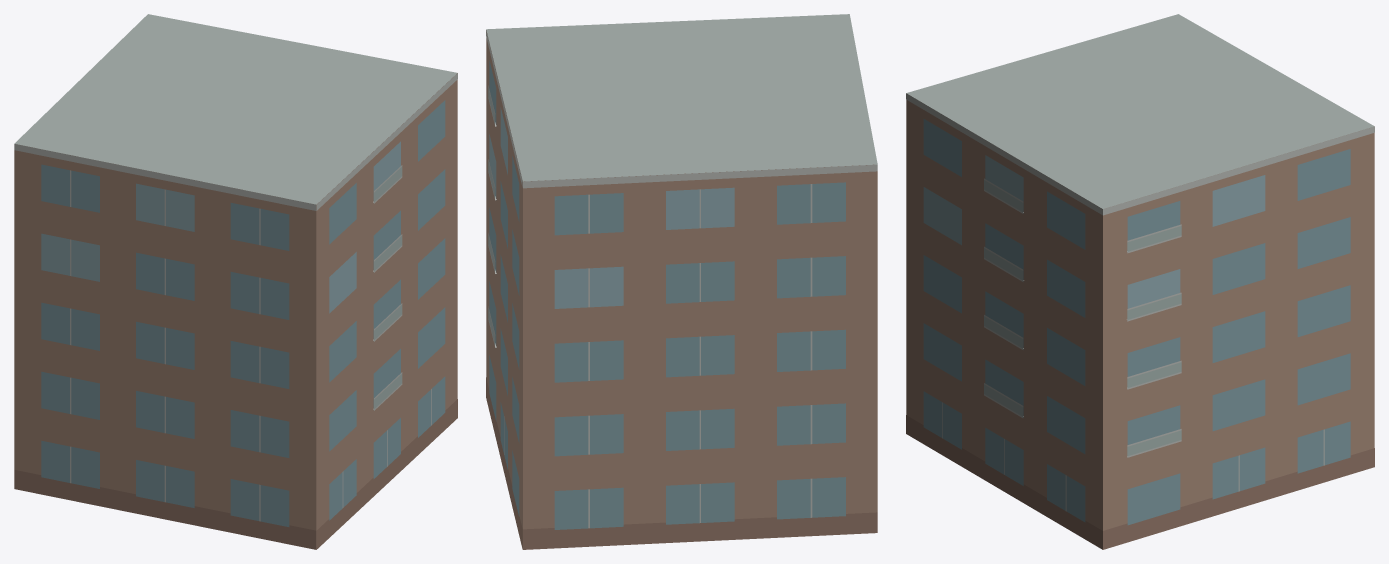
The model's file is survey-upis-32584382.glb.
The picture shows the model from 3 angles, left to right: view 1: azimuth 30°, elevation 25°; view 2: azimuth 150°, elevation 25°; view 3: azimuth 270°, elevation 25°; orthographic projection. The views are drawn at different scales.
Parts seen in each view (by area): view 1: survey-upis-32584382.tmp; view 2: survey-upis-32584382.tmp; view 3: survey-upis-32584382.tmp.
Boxes of the visible parts, x1,y1,x2,y2 form: survey-upis-32584382.tmp: [14, 14, 457, 549]; survey-upis-32584382.tmp: [486, 14, 877, 549]; survey-upis-32584382.tmp: [906, 14, 1374, 549].
Size of the model in its own units: 16.1 by 13.1 by 16.34.
